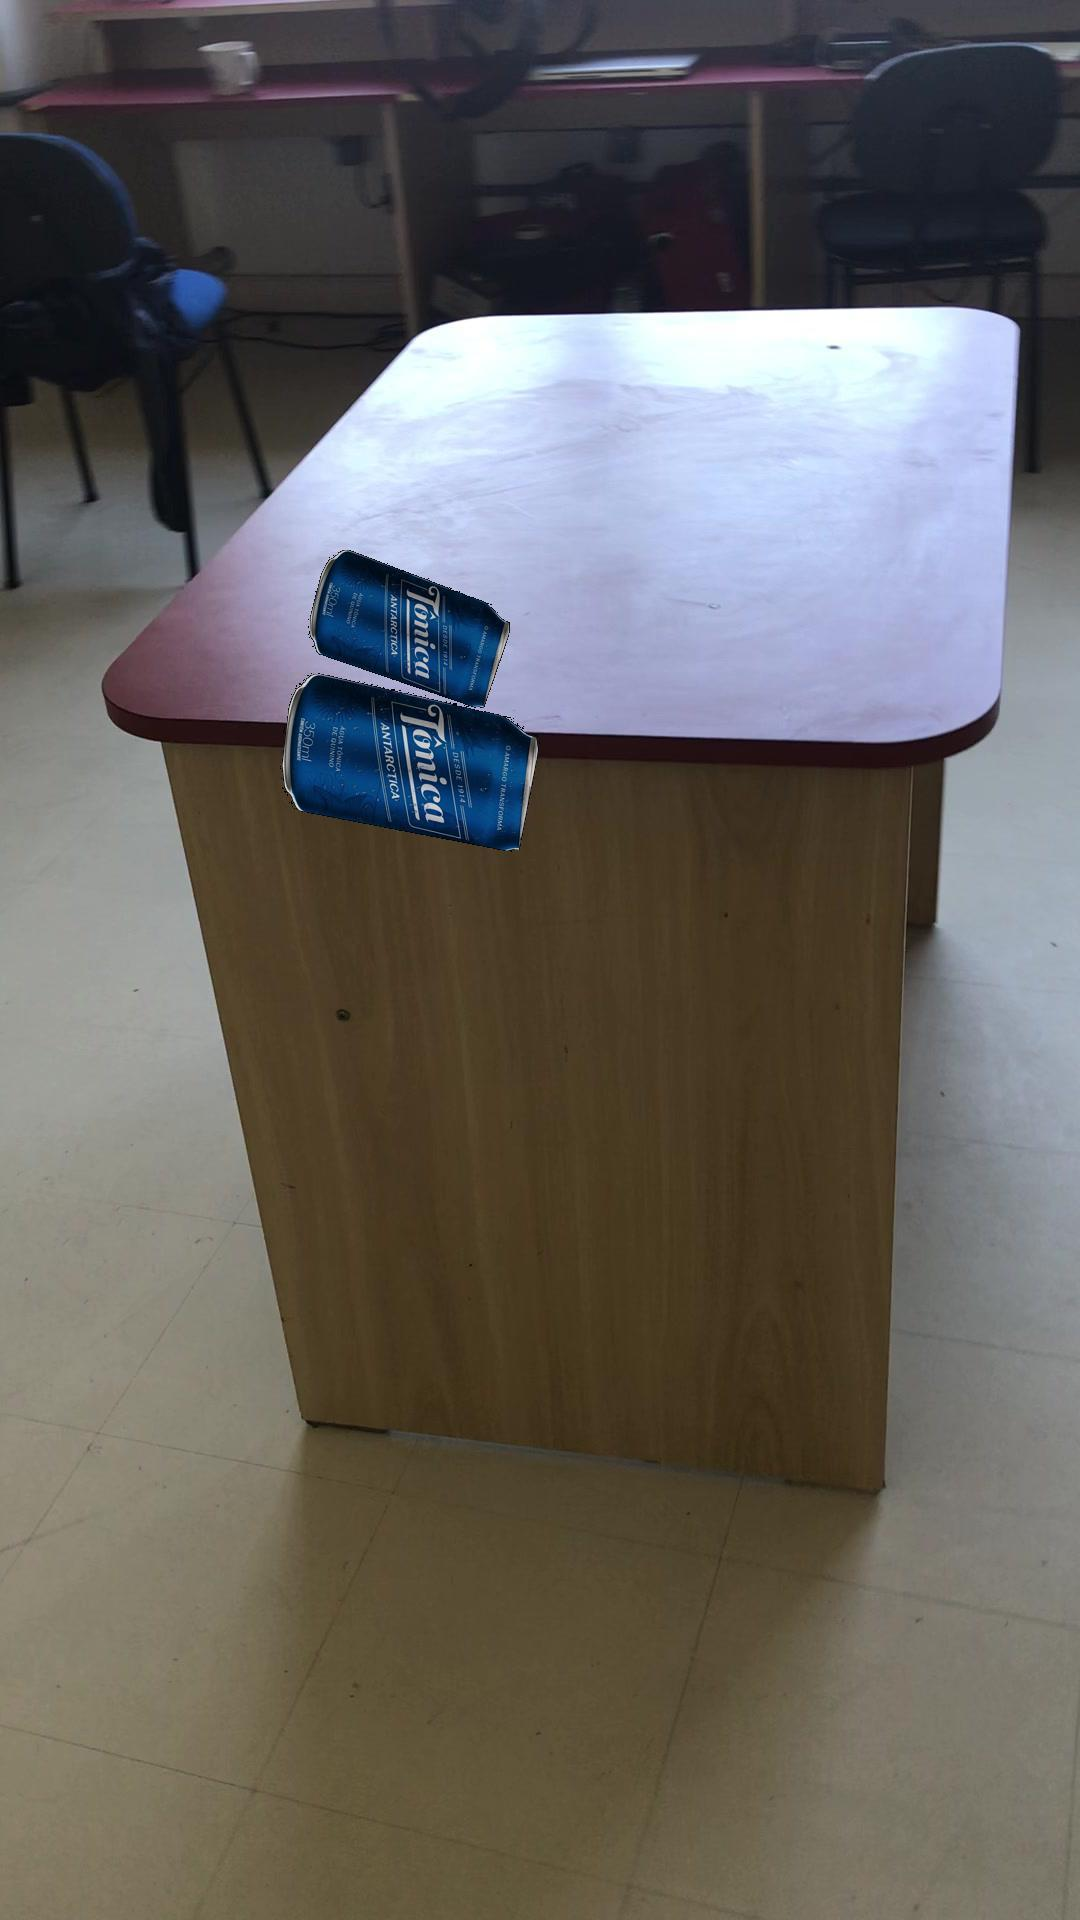tonic: (281, 671, 538, 851), (307, 549, 508, 707)
